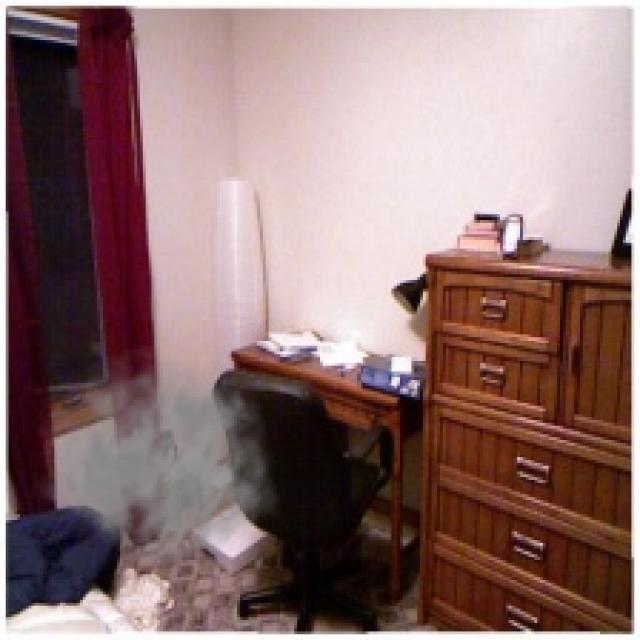Smoke: (31, 342, 280, 568)
